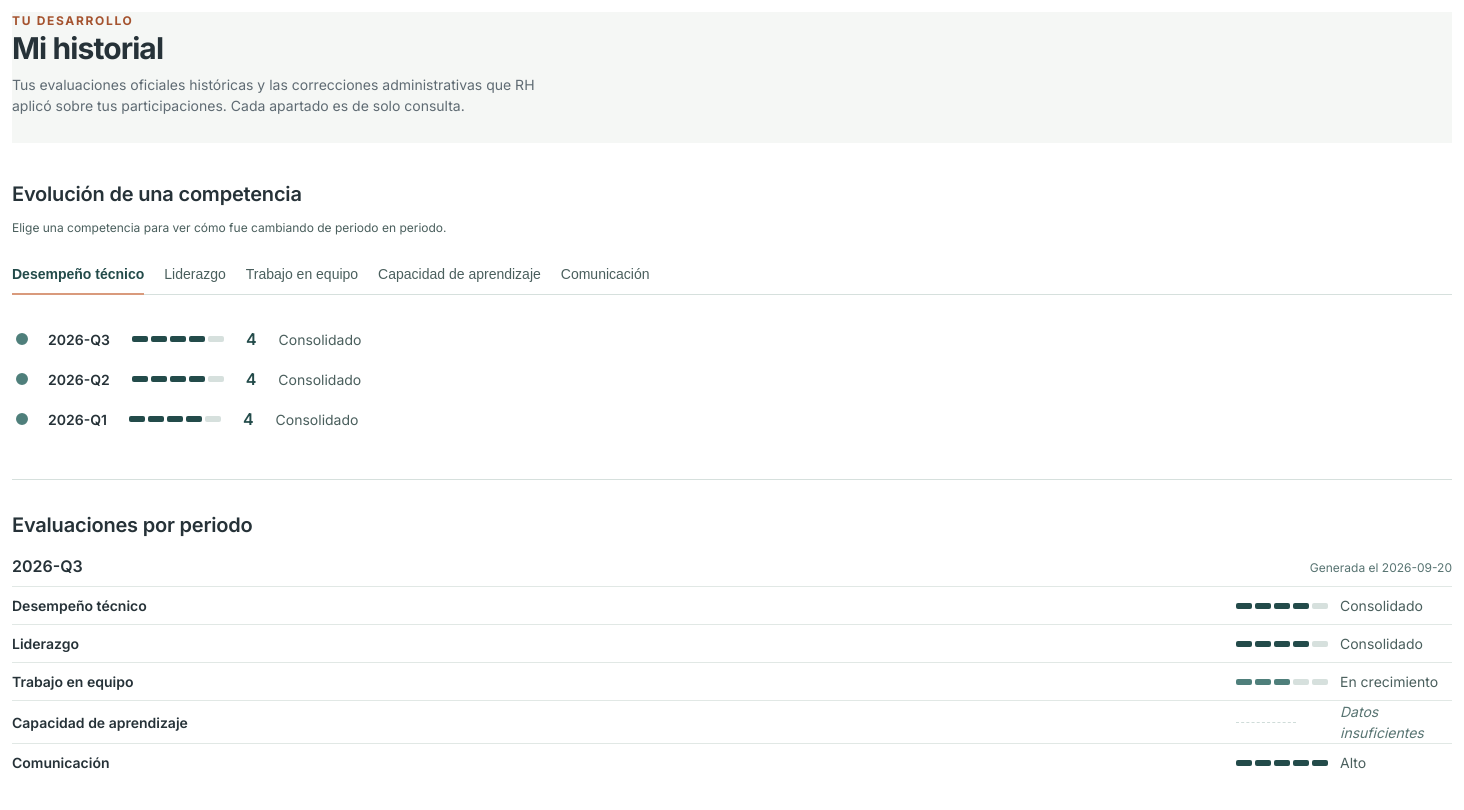
Test: MiHistorial — evolución de una competencia (PRD §21.5) › cambia de competencia y muestra solo esa evolución
The width and height of the screenshot is (1464, 810).
Expected: the heading "Mi historial" is shown, [12,30,163,66]
Expected: the element with class "historial-periodo" that starts with "2026-Q3" is shown, [12,554,1452,781]
Click the button "Liderazgo" at point(195, 274), box [164,254,226,294]
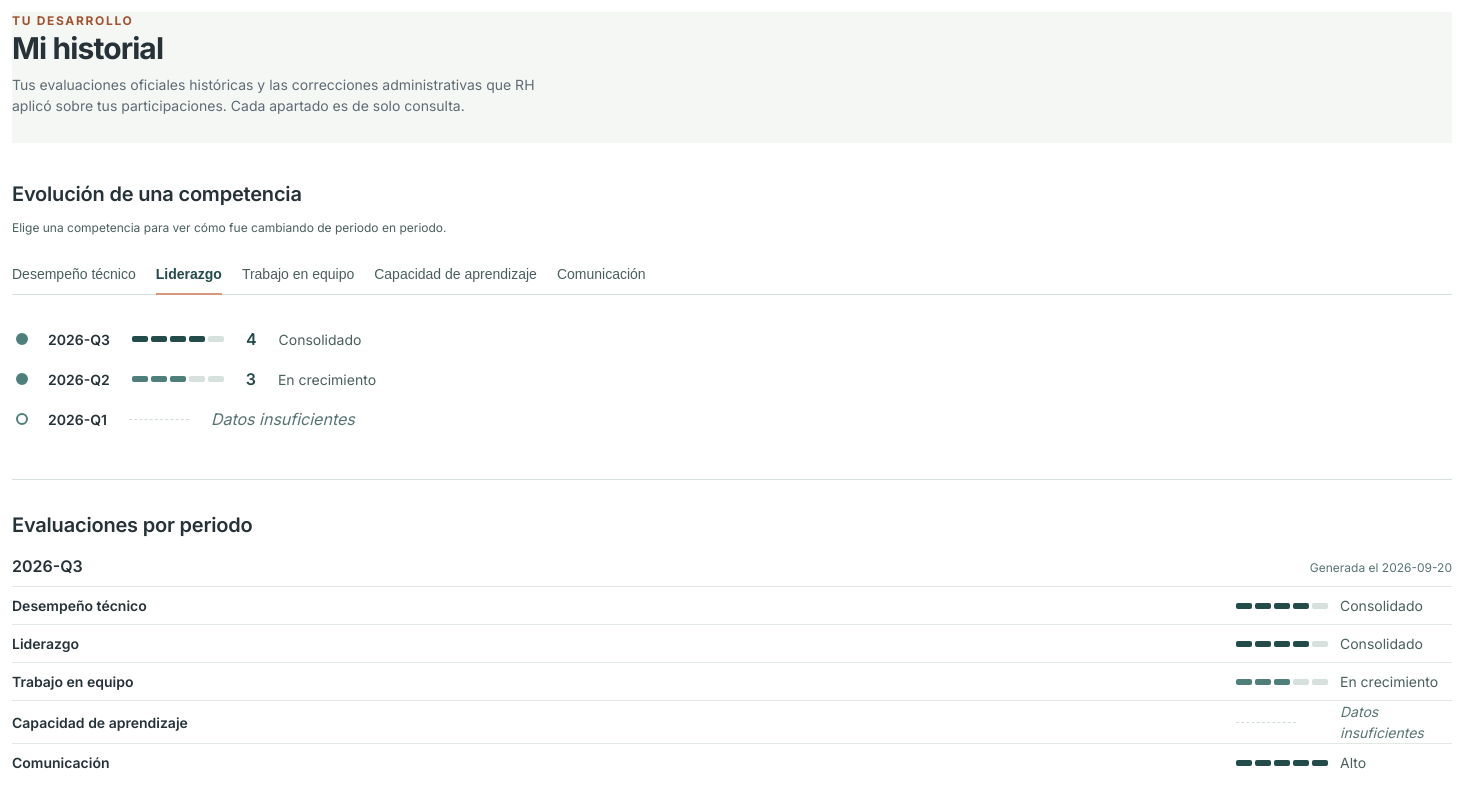
Expected: the list item with class "historial-timeline__item" shows "Consolidado", [278,331,361,348]
Now the list item with class "historial-timeline__item" shows "En crecimiento", box [278,371,376,388]
Now the list item with class "historial-timeline__item" shows "Datos insuficientes", box [211,409,355,429]
